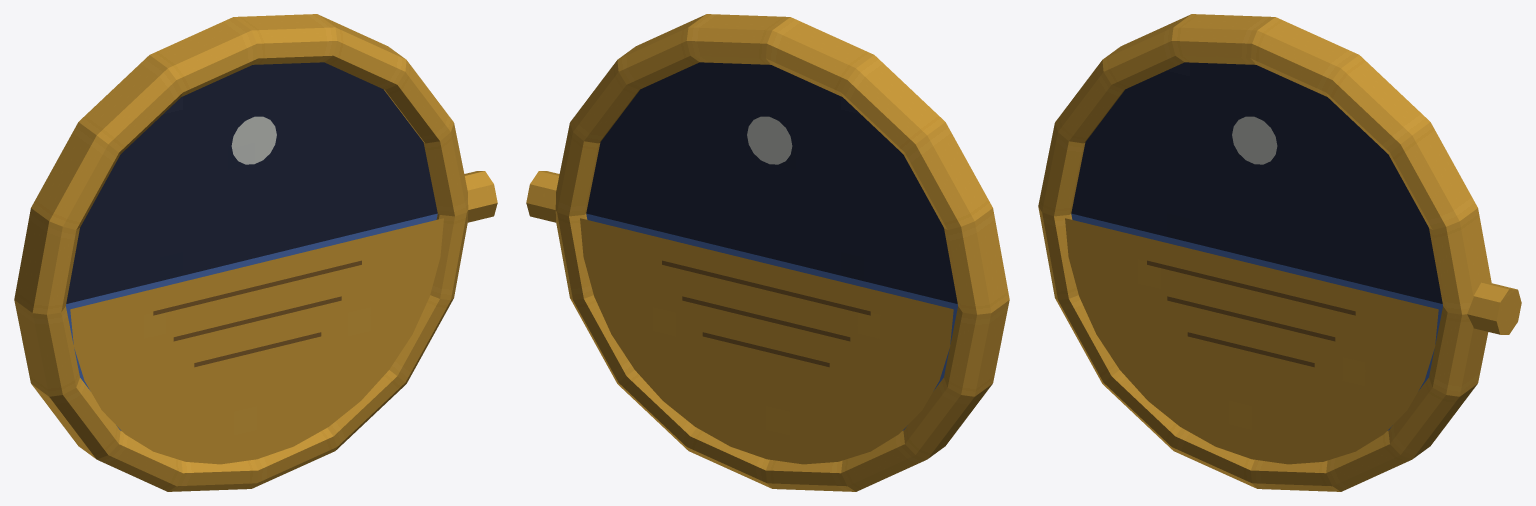
Rendered from clock_32.obj.
3 views of the same model, side by side, from view 1: azimuth 30°, elevation 25°; view 2: azimuth 150°, elevation 25°; view 3: azimuth 330°, elevation 25° (orthographic).
Bounding box in the file's own units: 0.6363 × 0.6037 × 0.075.
